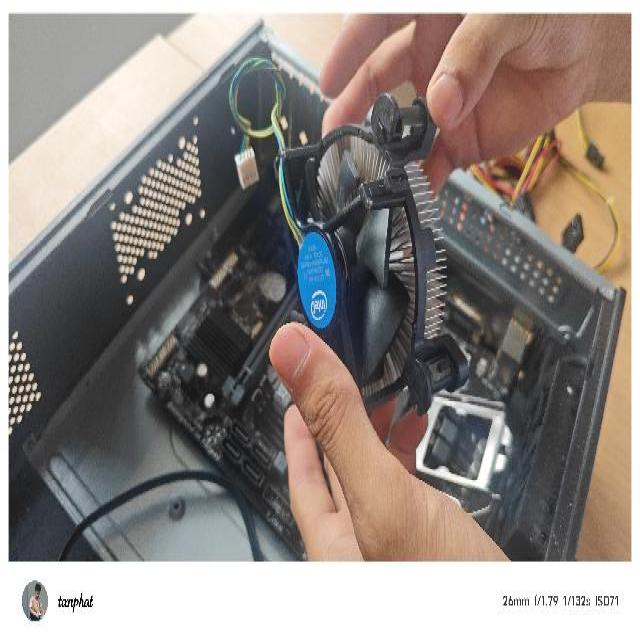CPU_Fan: (274, 87, 472, 435)
